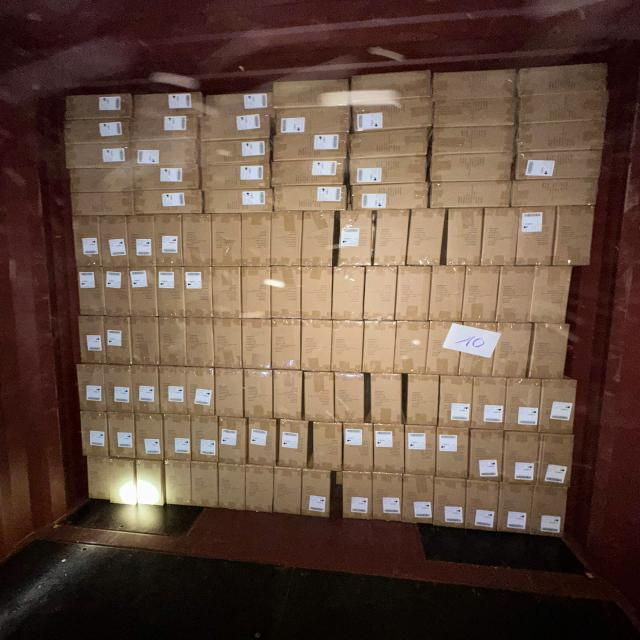Carton: (516, 63, 614, 97), (516, 119, 606, 154), (518, 91, 610, 124), (513, 148, 603, 180), (512, 178, 600, 210), (430, 69, 515, 102), (353, 100, 434, 134), (430, 150, 515, 182), (433, 96, 516, 128), (349, 70, 432, 101), (553, 203, 594, 265), (430, 127, 517, 156), (348, 130, 428, 161), (518, 204, 558, 265), (530, 265, 570, 324), (428, 180, 511, 208), (274, 80, 351, 110), (349, 156, 429, 184), (274, 109, 351, 138), (349, 185, 428, 213), (198, 112, 271, 142), (530, 323, 568, 380), (496, 322, 534, 379), (498, 265, 535, 323), (273, 159, 349, 187), (274, 186, 350, 214), (444, 207, 480, 266), (482, 208, 518, 267), (540, 377, 577, 434), (130, 112, 200, 142), (409, 208, 445, 266), (464, 266, 500, 324), (128, 138, 200, 167), (338, 212, 374, 268), (374, 212, 410, 268), (201, 162, 273, 190), (273, 134, 350, 160), (460, 321, 495, 378), (502, 429, 538, 484), (431, 266, 466, 322), (504, 379, 539, 435), (428, 322, 464, 376), (65, 142, 134, 170), (398, 266, 432, 322), (132, 91, 205, 117), (135, 190, 205, 217), (530, 486, 567, 537), (64, 118, 131, 146), (200, 138, 272, 164), (202, 88, 274, 114), (540, 434, 574, 489), (470, 430, 505, 483), (497, 484, 532, 537), (68, 166, 134, 194), (203, 190, 274, 216), (473, 376, 507, 430), (66, 91, 134, 118), (131, 167, 201, 193), (303, 213, 336, 268), (440, 375, 473, 429), (406, 374, 440, 426), (368, 371, 402, 423), (434, 477, 468, 529), (464, 482, 498, 534), (365, 266, 397, 321), (272, 212, 304, 266), (395, 321, 427, 375), (333, 322, 365, 376), (68, 193, 134, 219), (302, 267, 334, 320), (241, 214, 272, 268), (334, 267, 365, 321), (300, 320, 331, 374), (363, 322, 395, 374), (438, 428, 470, 480), (404, 426, 436, 477), (242, 266, 272, 320), (272, 268, 303, 320), (403, 475, 435, 525), (212, 215, 242, 268), (374, 423, 405, 474), (342, 471, 373, 522), (182, 216, 212, 268), (212, 267, 242, 319), (100, 217, 130, 269), (343, 422, 374, 472), (302, 370, 333, 420), (302, 470, 333, 520), (272, 319, 301, 372), (336, 371, 366, 422), (72, 217, 102, 268), (278, 419, 309, 468), (243, 319, 272, 371), (183, 266, 212, 318), (128, 216, 157, 268), (273, 370, 303, 420), (373, 472, 403, 522), (156, 215, 184, 268), (312, 423, 342, 472), (158, 267, 186, 319), (215, 368, 244, 418), (246, 369, 275, 419), (214, 320, 243, 370), (185, 319, 214, 369), (78, 267, 107, 317), (132, 318, 161, 367), (109, 456, 138, 505), (130, 267, 158, 317), (160, 366, 188, 416), (248, 420, 277, 468), (245, 466, 274, 514), (104, 318, 132, 367), (158, 321, 186, 370), (218, 417, 247, 464), (273, 468, 302, 515), (79, 365, 108, 412), (103, 268, 130, 318), (80, 318, 108, 366), (136, 462, 165, 508), (187, 367, 214, 416), (136, 413, 164, 460), (82, 410, 110, 457), (105, 366, 133, 413), (108, 412, 136, 458), (165, 416, 192, 463), (134, 366, 160, 414), (192, 418, 219, 464), (165, 460, 192, 506), (218, 465, 245, 511), (85, 456, 112, 502), (192, 464, 219, 509)
